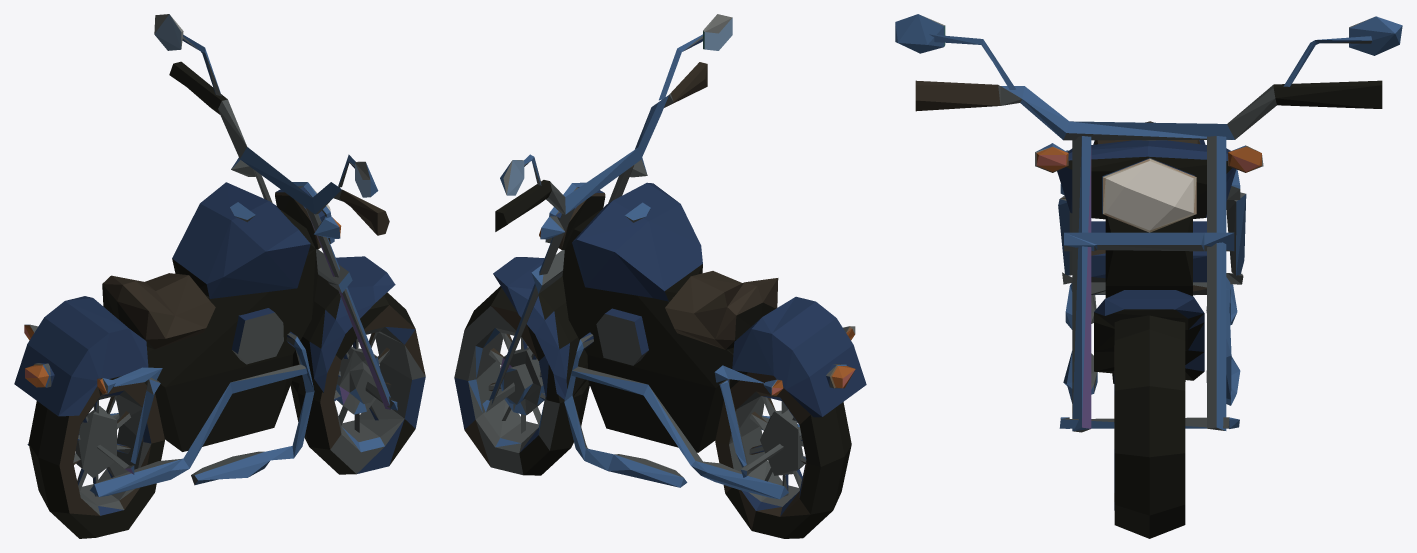
File: touring-motorbike.glb
3 views of the same model, side by side, from view 1: azimuth 30°, elevation 25°; view 2: azimuth 150°, elevation 25°; view 3: azimuth 270°, elevation 25° (orthographic). The views are drawn at different scales.
Bounding box in the file's own units: 0.9974 × 1 × 0.9937.
